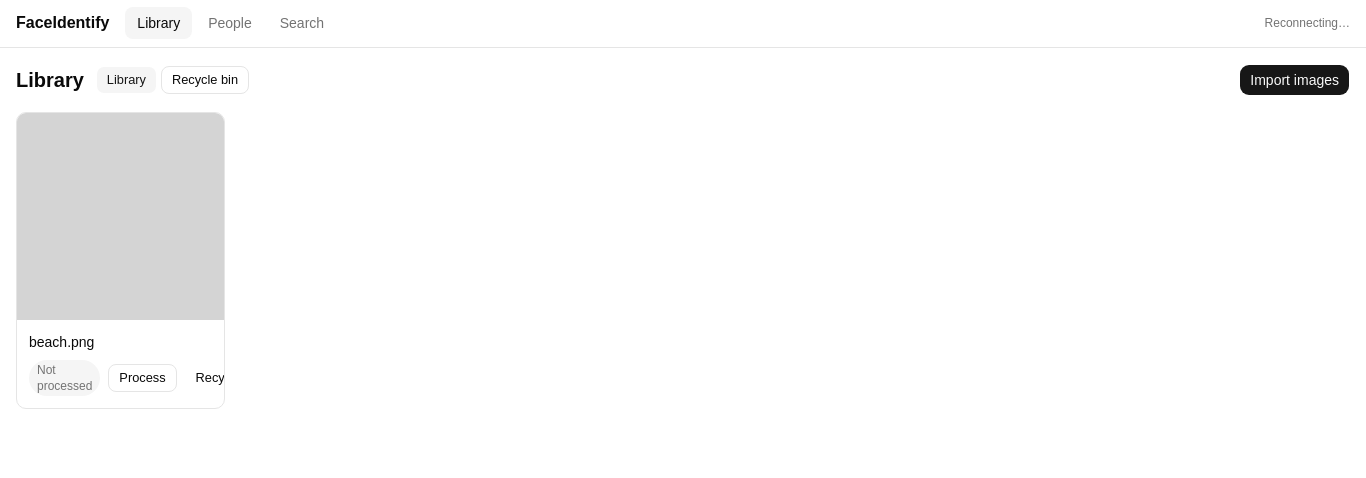
Test: the library › shows the backend message when processing cannot start
Click the button with aria-label "Process beach.png".
click(142, 378)  # box [108, 364, 177, 392]
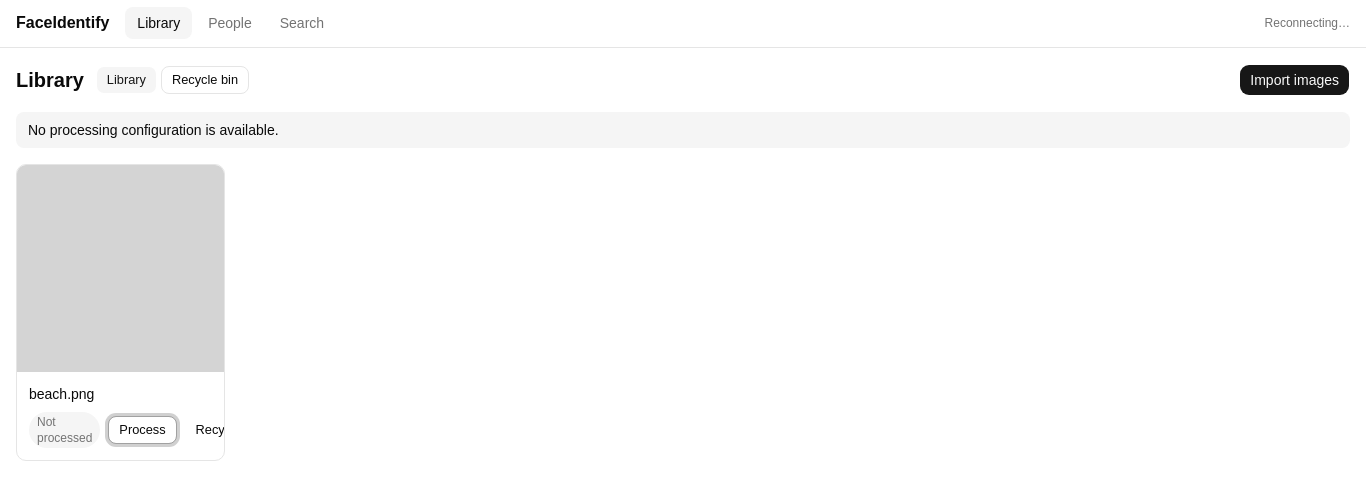
Check: the message named "Library notice" reads "No processing configuration is available.", box [28, 122, 279, 138]
